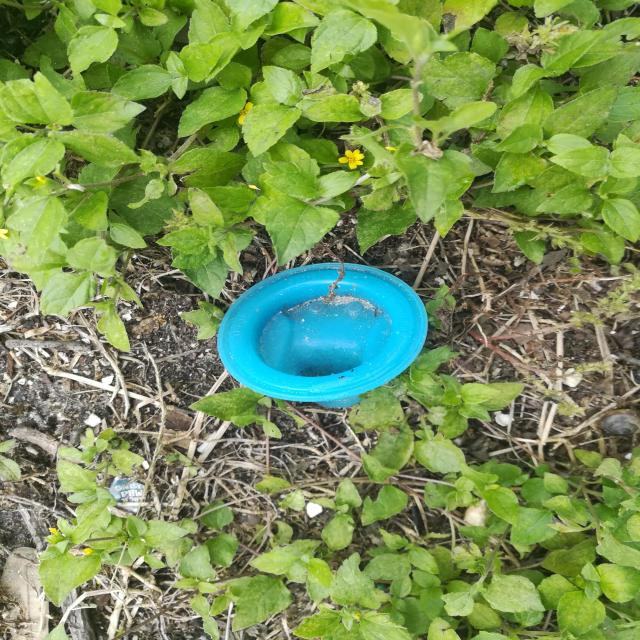litter: (204, 260, 435, 407)
